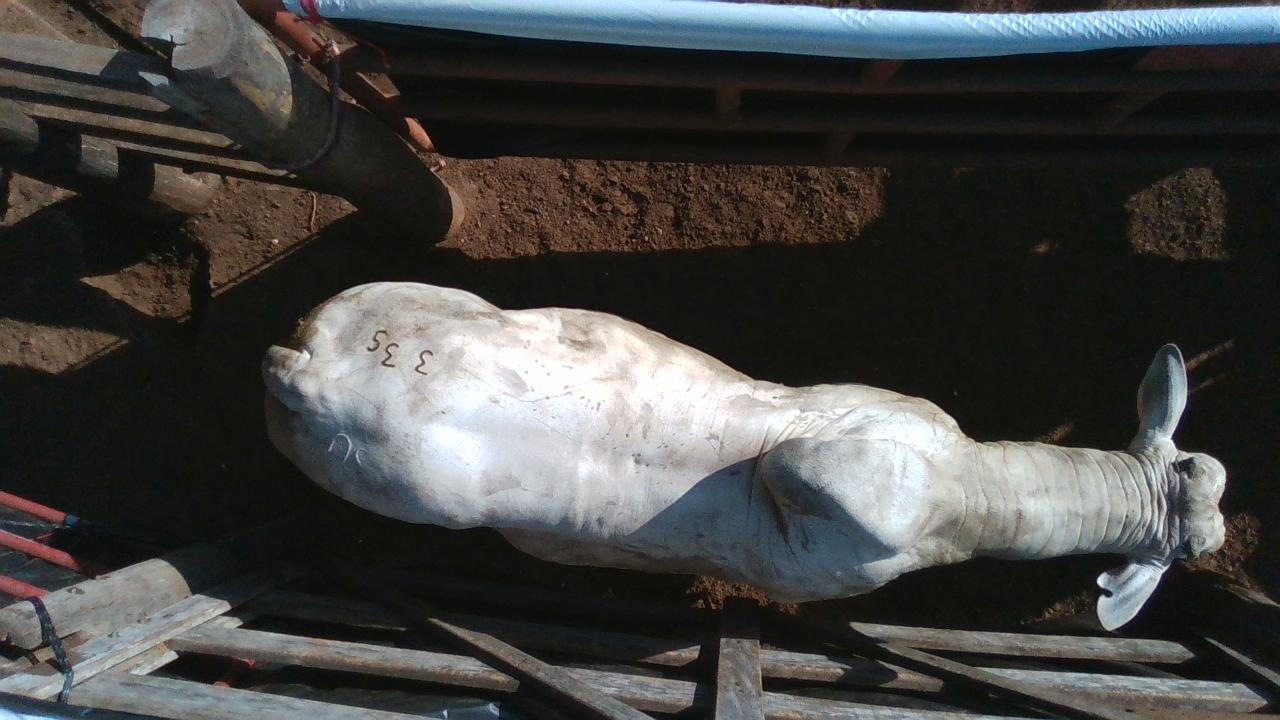cattle: (259, 278, 1228, 631)
